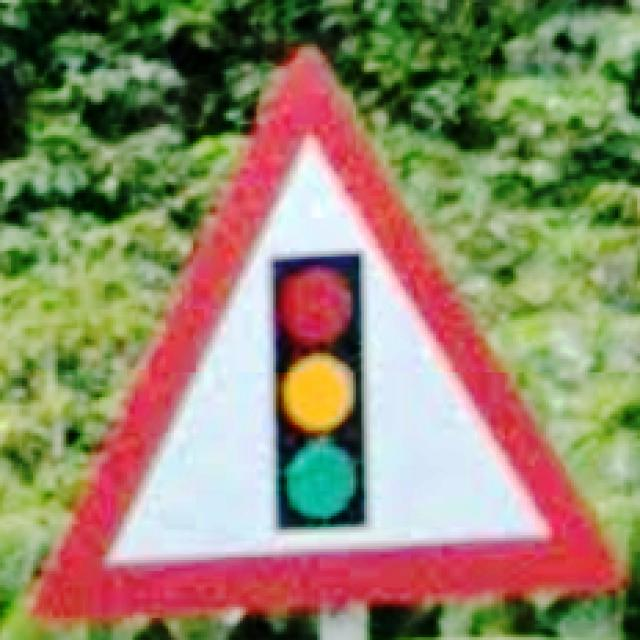signalahead: (25, 46, 620, 622)
